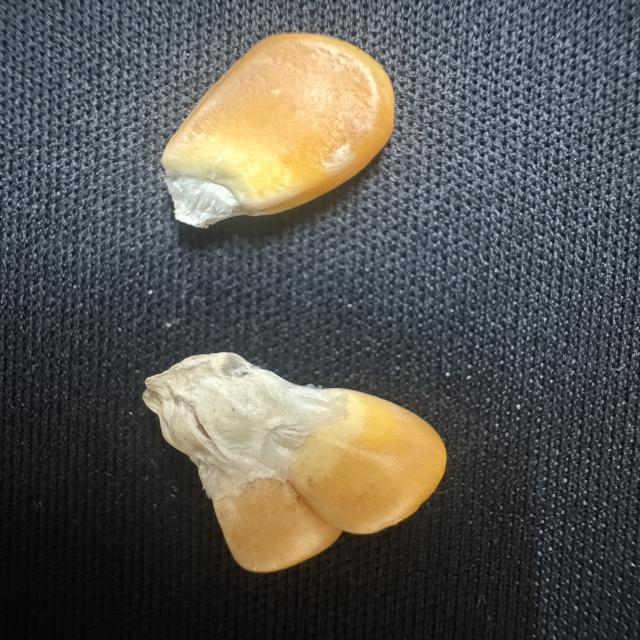Bad-Seed: (139, 348, 452, 577)
Good-Seed: (156, 28, 405, 236)
